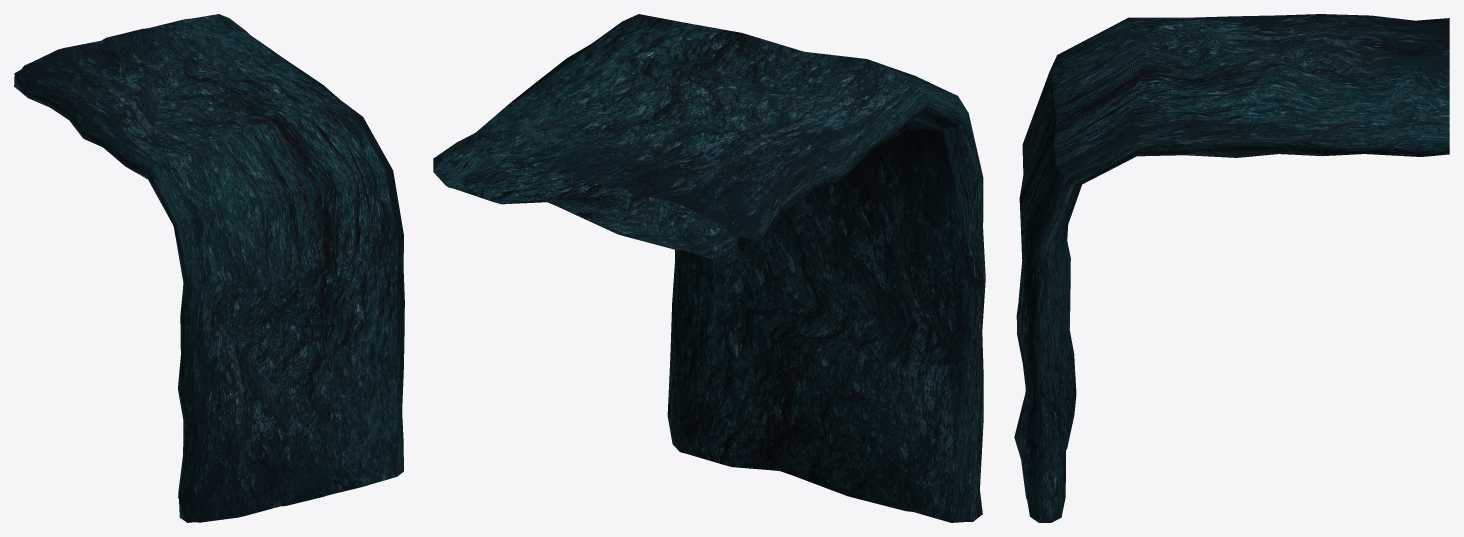
The model's file is wall_left_curve.fbx.
The picture shows the model from 3 angles, left to right: view 1: azimuth 30°, elevation 25°; view 2: azimuth 150°, elevation 25°; view 3: azimuth 270°, elevation 25°; orthographic projection. The views are drawn at different scales.
Parts seen in each view (by area): view 1: Sklála.1; view 2: Sklála.1; view 3: Sklála.1.
Boxes of the visible parts, x1,y1,x2,y2 form: Sklála.1: [14, 14, 404, 522]; Sklála.1: [433, 14, 985, 522]; Sklála.1: [1014, 14, 1449, 522].
Bounding box in the file's own units: 1577 × 2365 × 2299.
1 material, 1 textured.
